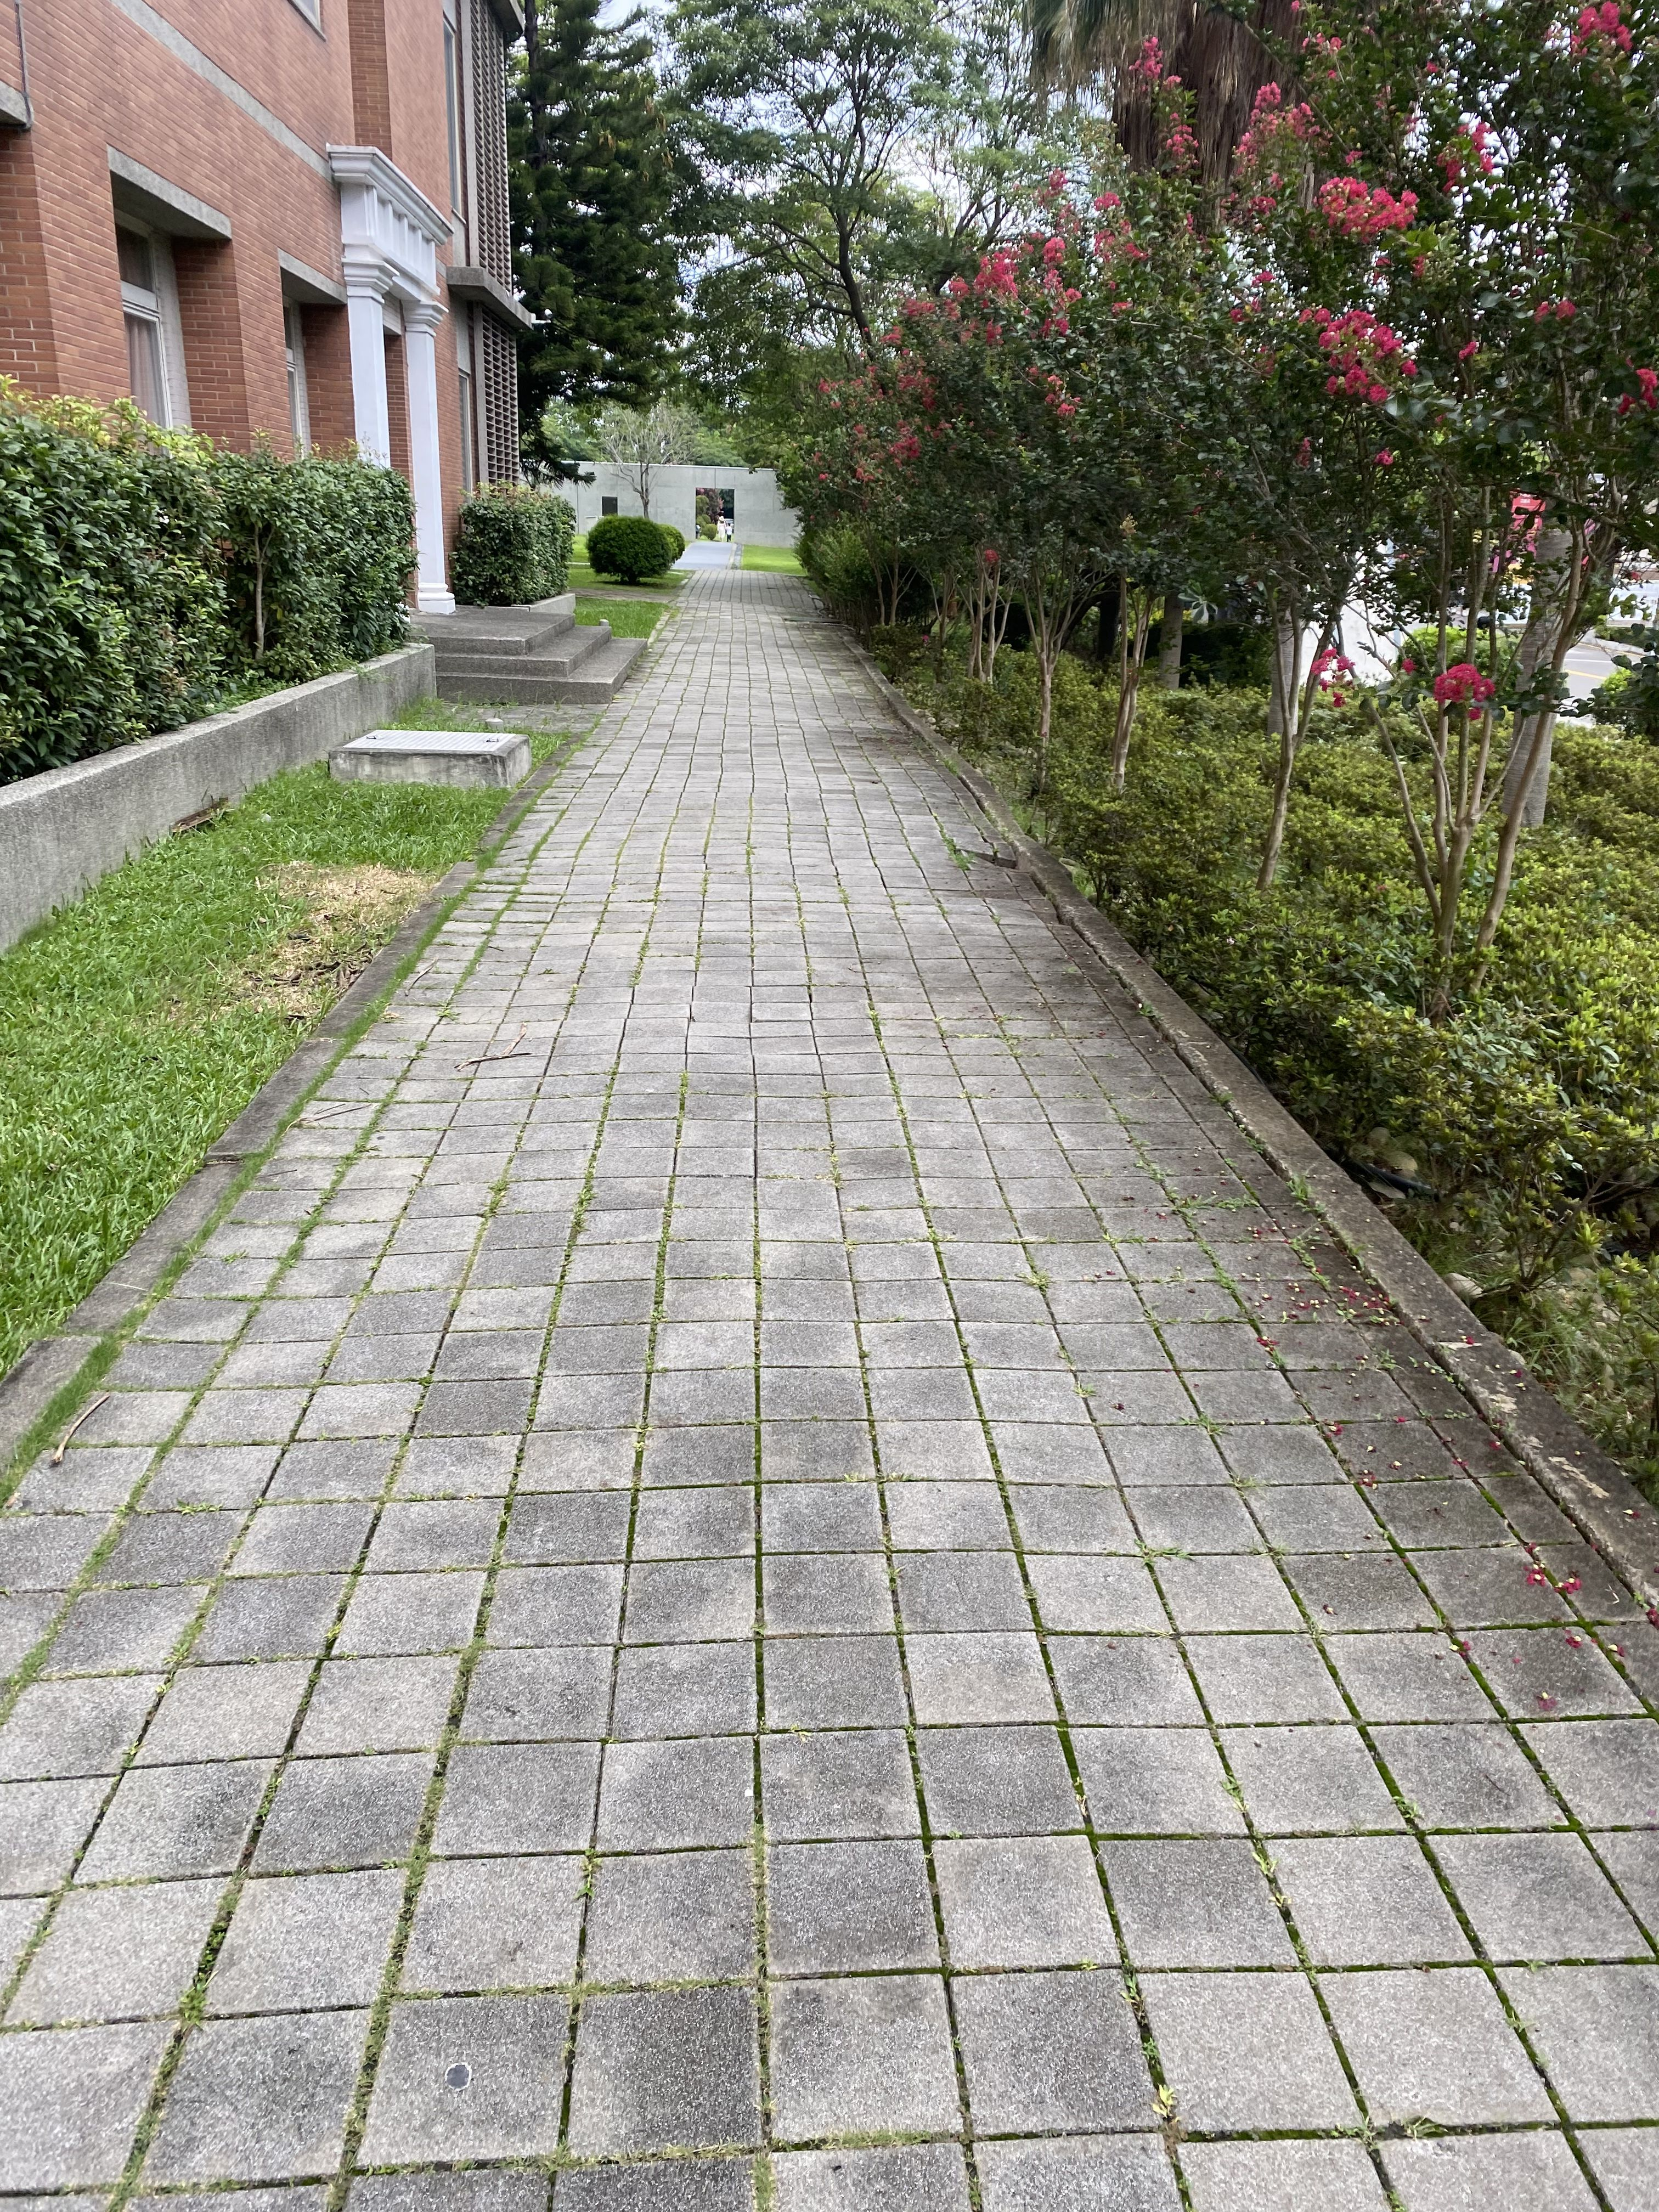0: (0, 808, 568, 2200)
sidewalk: (554, 507, 1659, 2212)
